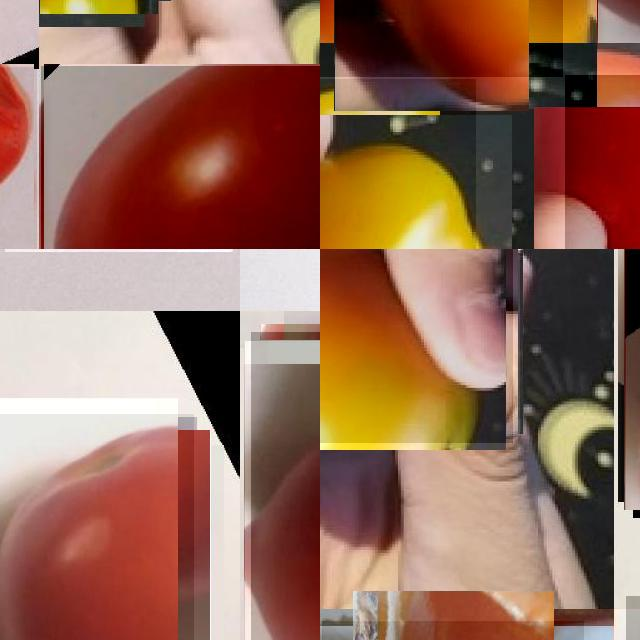0: (41, 66, 320, 249), (0, 414, 194, 640), (251, 332, 320, 640)
Fresh Tomato: (320, 0, 563, 77), (565, 75, 640, 249)
Rotten Tomato: (320, 249, 513, 443), (320, 79, 476, 249)
